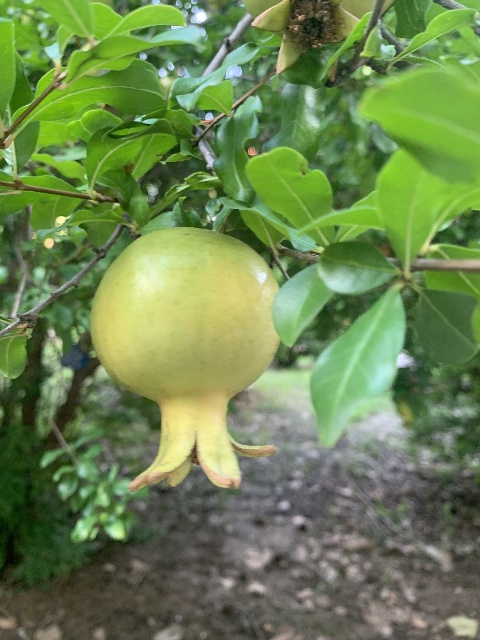mid-growth: (88, 226, 280, 493)
